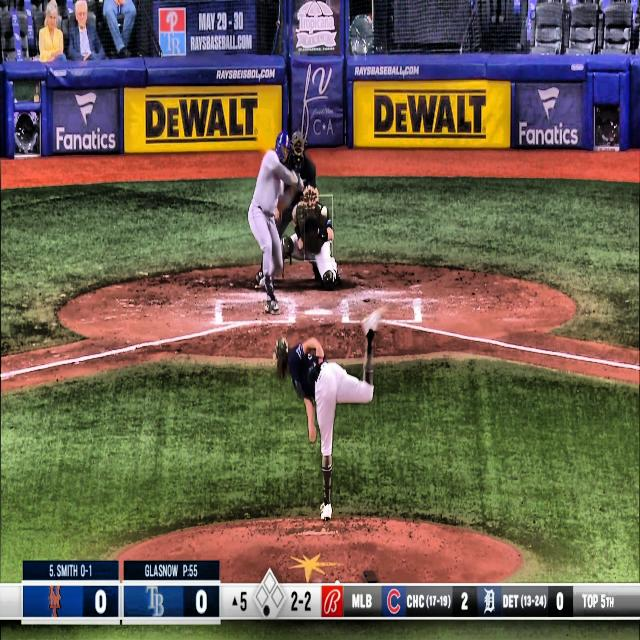baseball: (320, 205, 328, 218)
